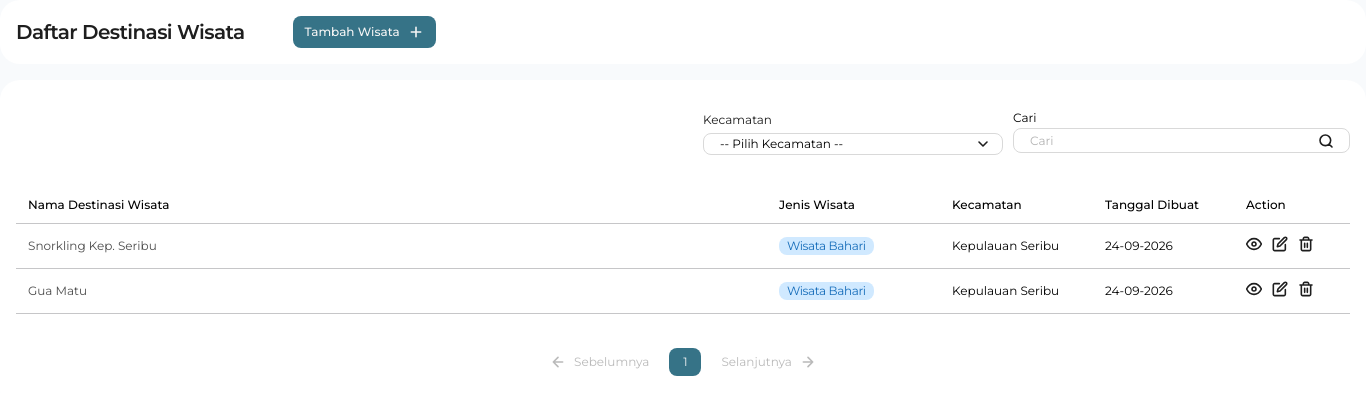
Test: DestinasiWisataView › filters rows by name when searching
Type "gua" into the search field with id "filter-search".
click(1182, 140); type("gua")  # box [1013,128,1350,153]
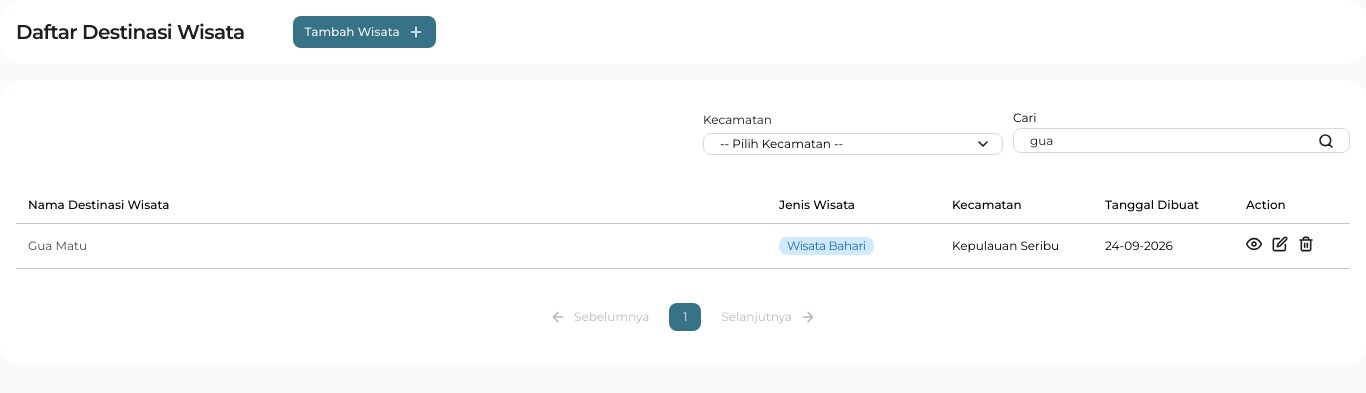
Expected: the table shows "Gua Matu", [28,238,87,253]
Replace the text in the search field with id "filter-search" with "zzz" at x=1182, y=140, box [1013,128,1350,153]
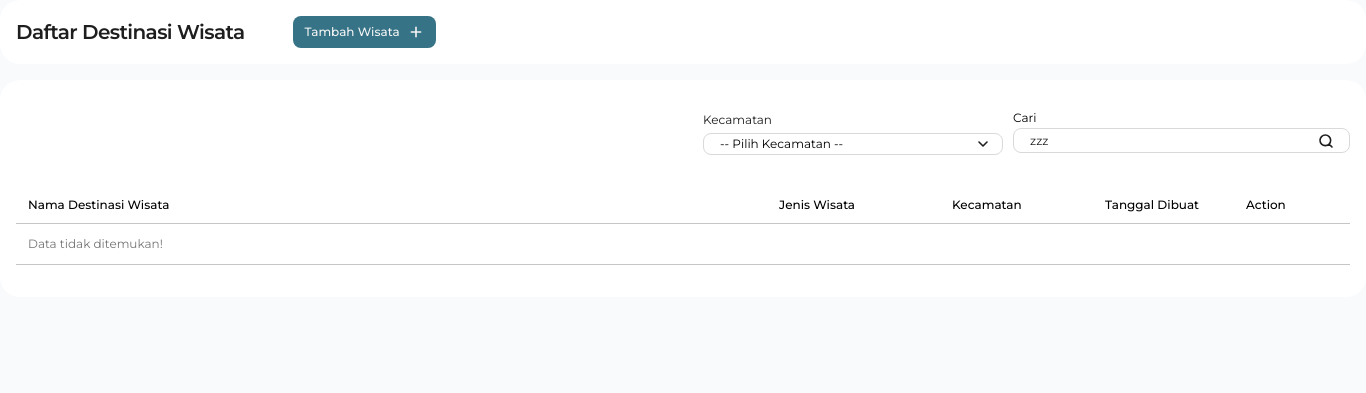
Expected: the table reads "Data tidak ditemukan!", [28,236,163,251]
